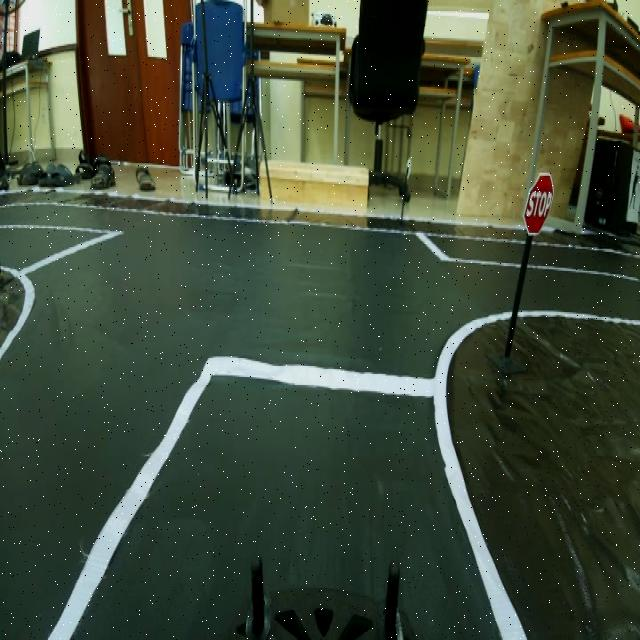stop: (519, 162, 554, 244)
